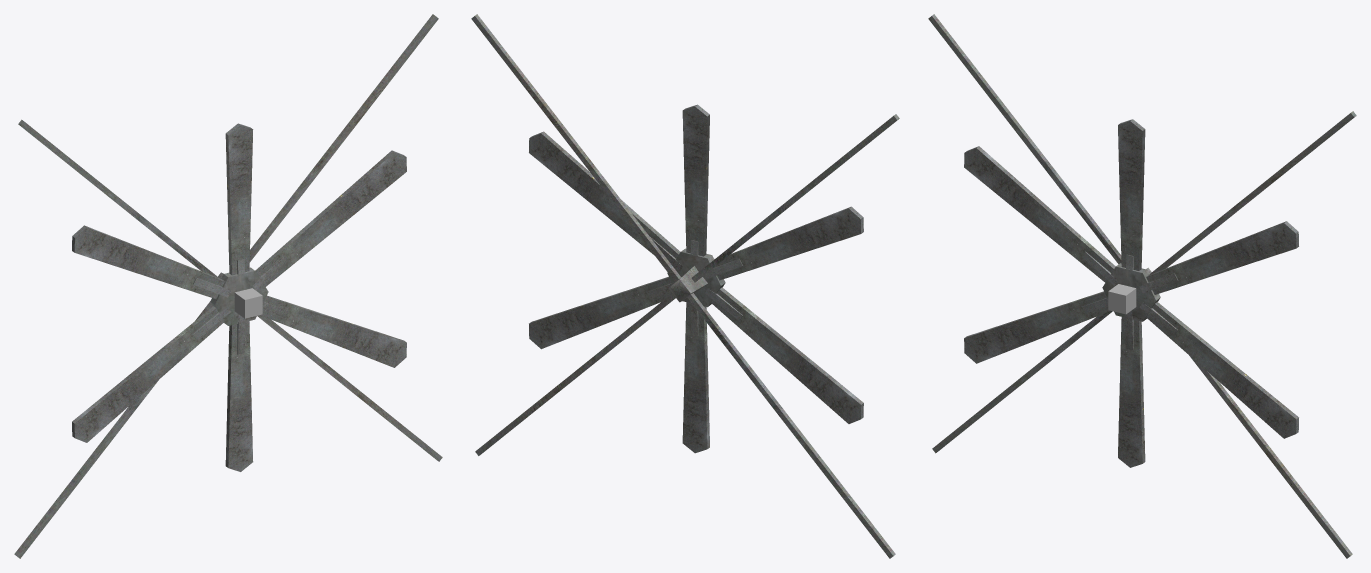
File: other_fan02.dae
The picture shows the model from 3 angles, left to right: view 1: azimuth 30°, elevation 25°; view 2: azimuth 150°, elevation 25°; view 3: azimuth 330°, elevation 25°; orthographic projection.
Visible parts, largest first — view 1: fan, solid, _sound_fan1s_machine_fan_large; view 2: fan, solid; view 3: fan, solid, _sound_fan1s_machine_fan_large.
Boxes of the visible parts, bbox=[...] form: fan: bbox=[72, 123, 406, 471]; solid: bbox=[14, 14, 442, 558]; _sound_fan1s_machine_fan_large: bbox=[234, 288, 262, 318]; fan: bbox=[529, 104, 863, 453]; solid: bbox=[471, 14, 899, 558]; fan: bbox=[964, 119, 1298, 467]; solid: bbox=[928, 14, 1356, 558]; _sound_fan1s_machine_fan_large: bbox=[1108, 284, 1136, 314].
Size of what is drawn, in the model's own units: 0.9446 by 0.9477 by 0.1323.
